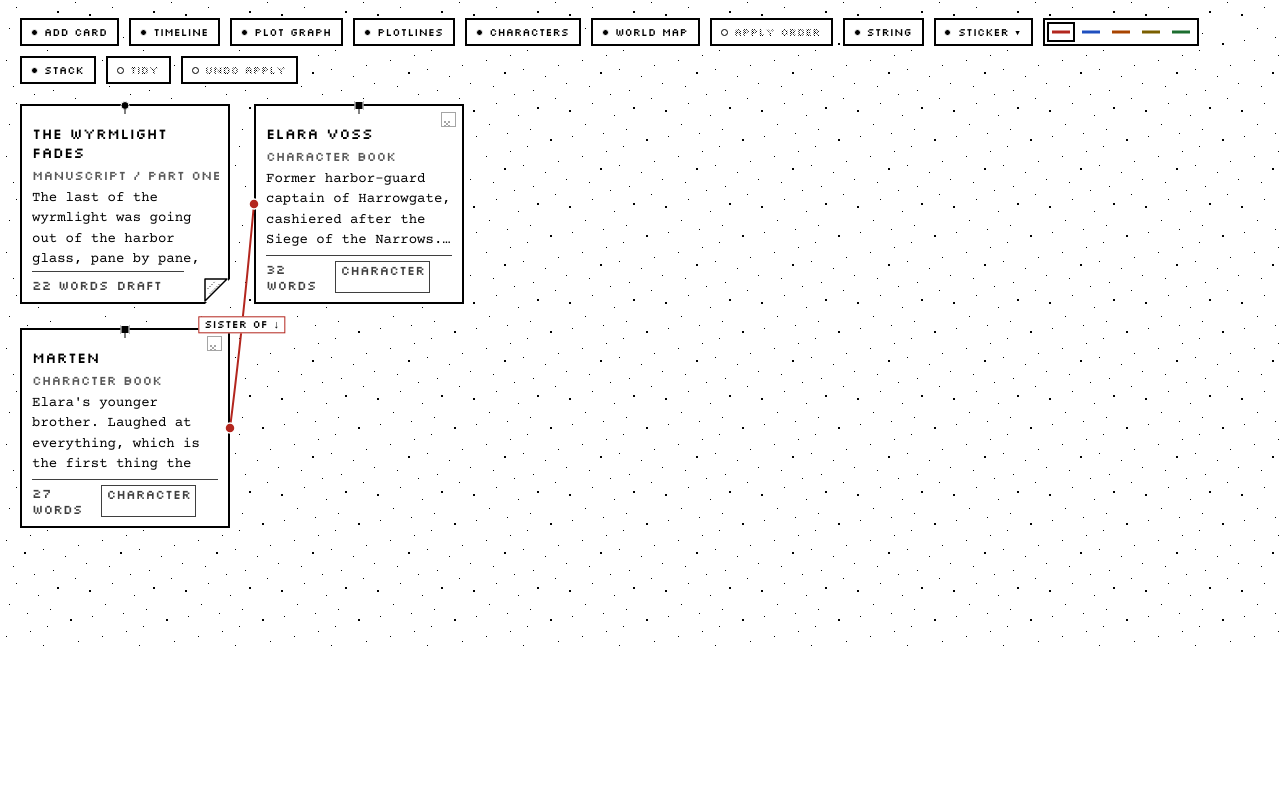
Test: a string between two characters is a relationship › will not rename a relationship to nothing
Check: the element that starts with "The Wyrmlight Fades" is shown, box [20, 104, 230, 304]
Click the button with class "board-tool" showing "String". click: (883, 32)
box: [842, 18, 924, 46]
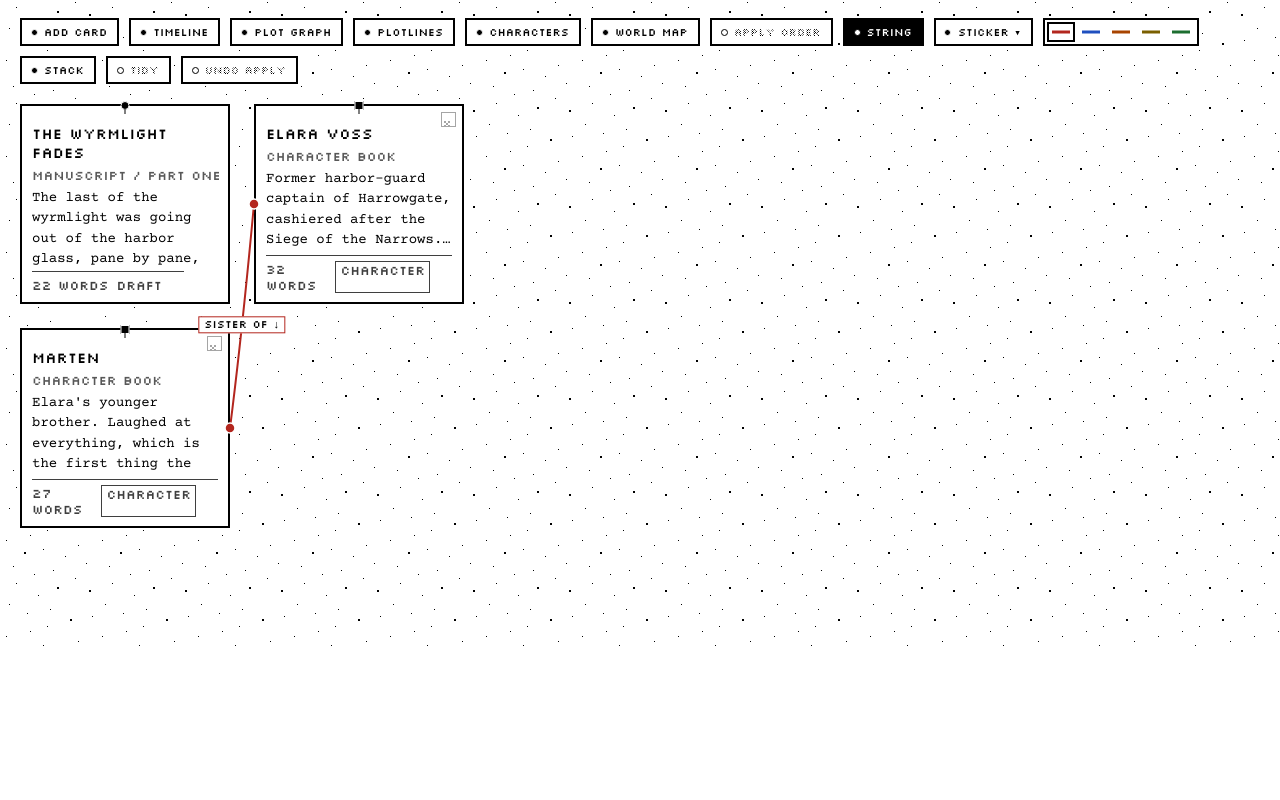
Click the button named "Change the relationship \"sister of\" from Elara Voss to Marten". click: (242, 325)
box: [198, 316, 286, 334]
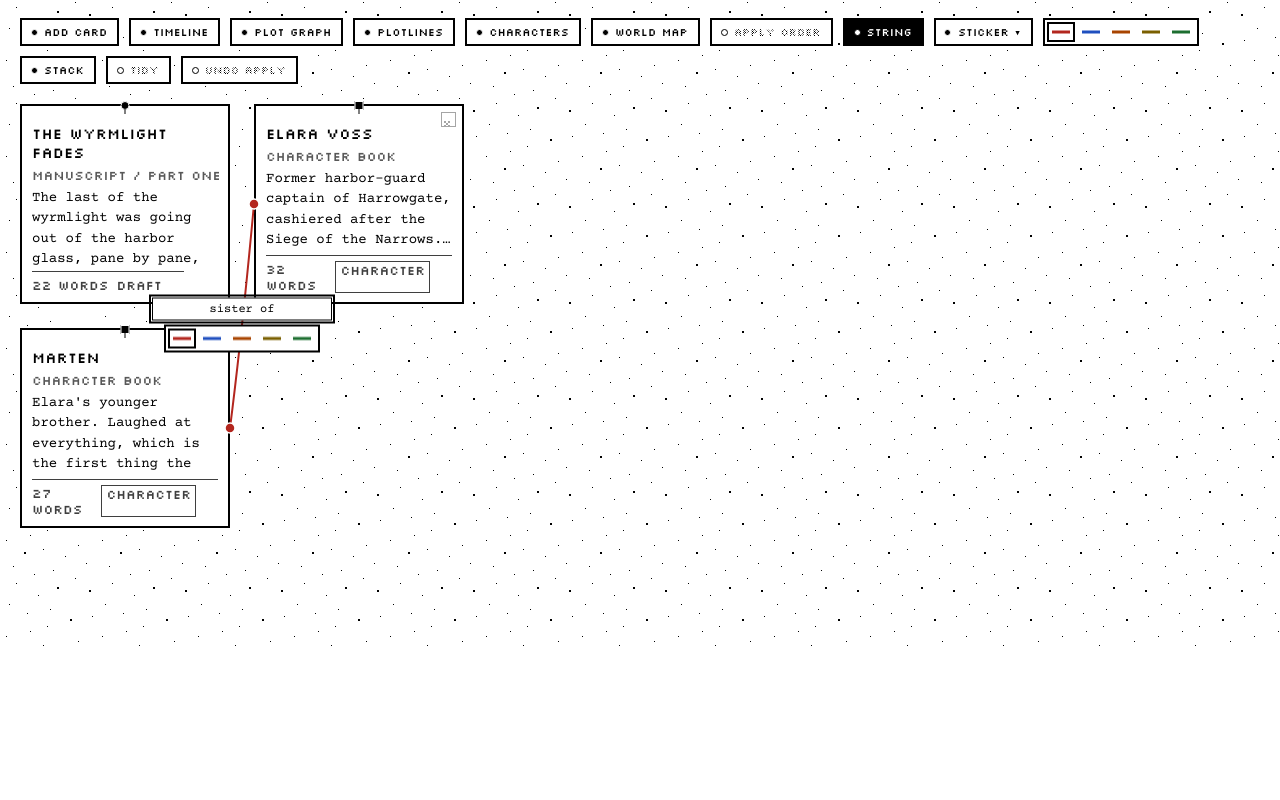
Clear the field with class "string-label-input". click: (242, 309)
box: [152, 298, 332, 320]
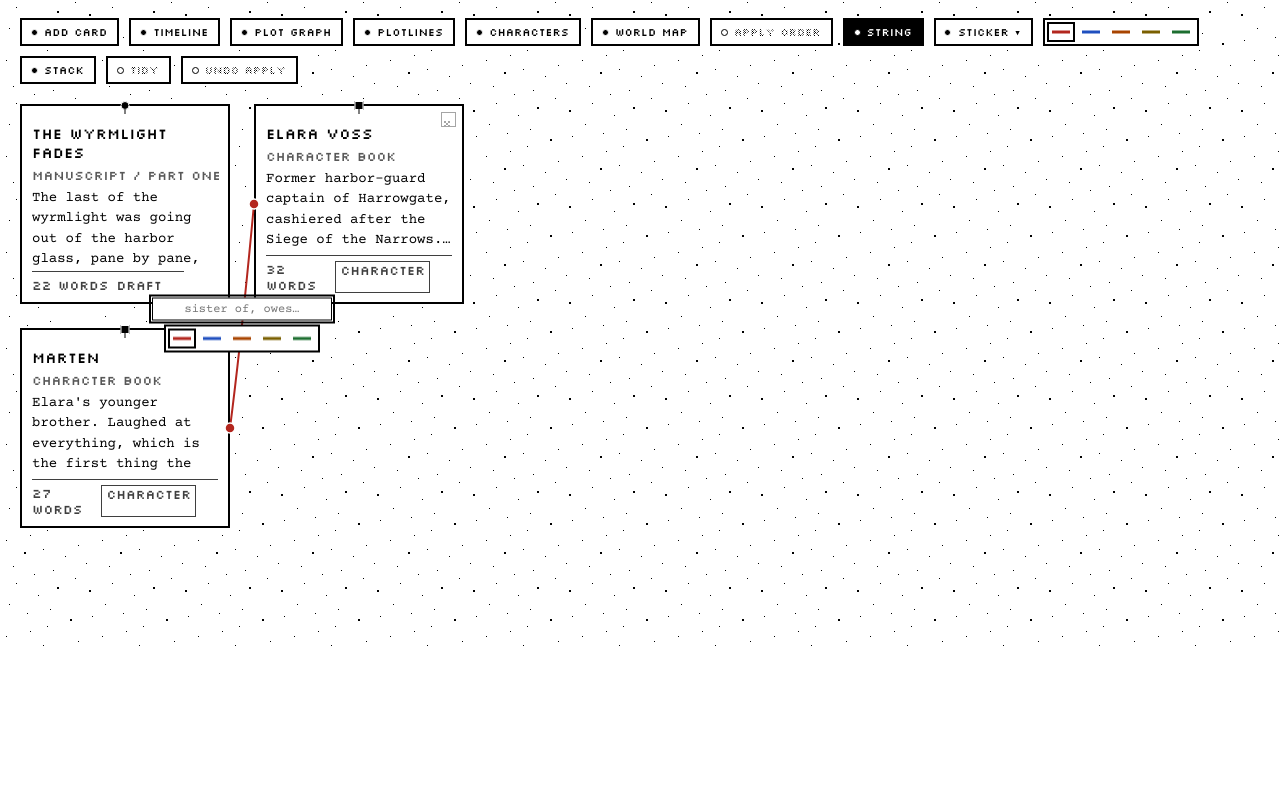
Press Enter in the field with class "string-label-input", box [152, 298, 332, 320]
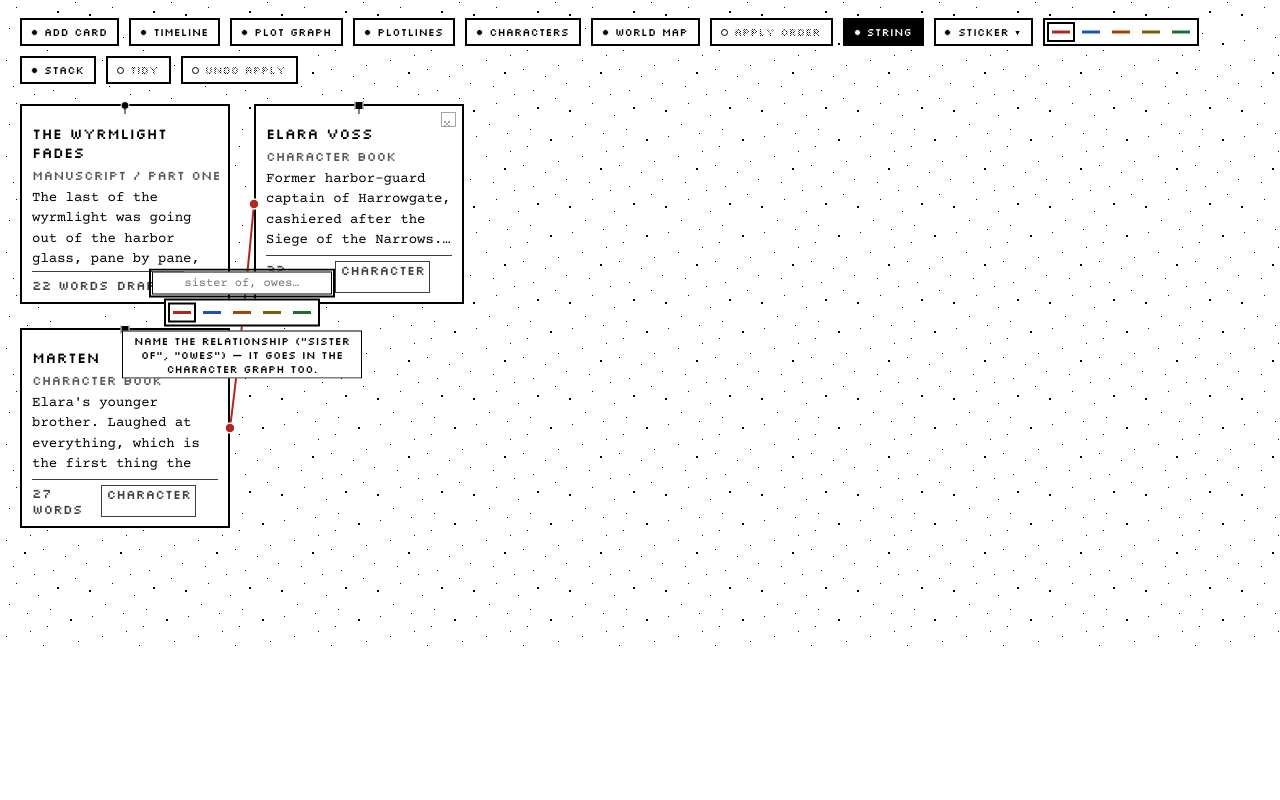
Check: the message is shown, box [122, 330, 362, 378]
